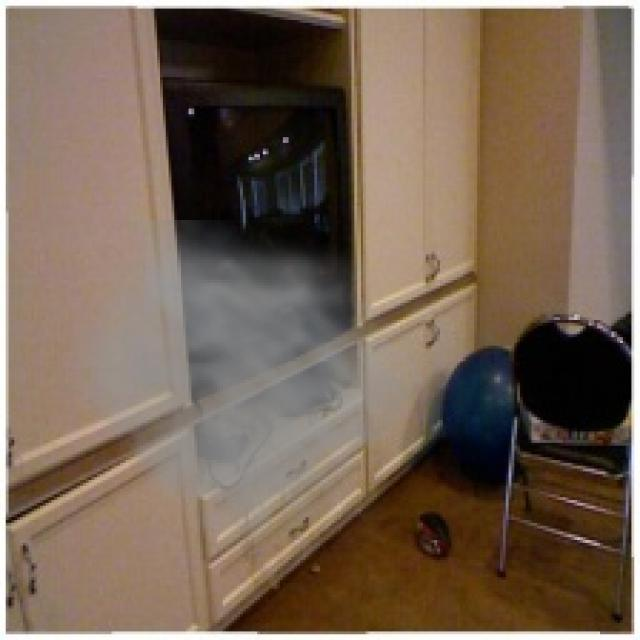smoke: (54, 220, 429, 577)
